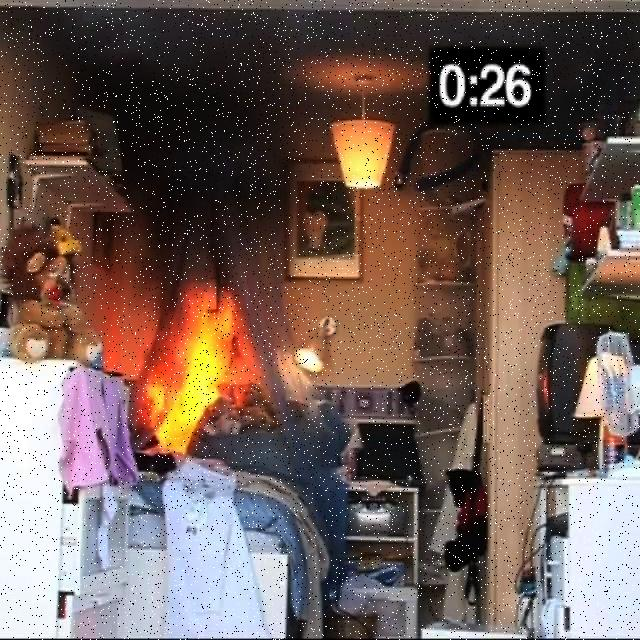fire: (130, 267, 252, 472)
light: (320, 89, 409, 202)
smoke: (98, 11, 294, 190)
